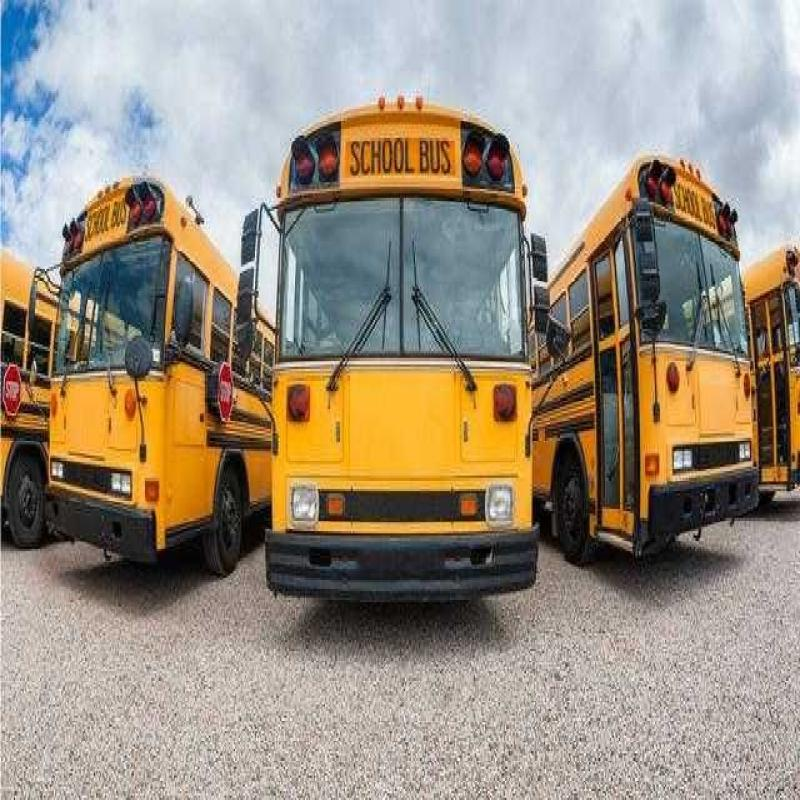bus: (276, 76, 548, 634), (597, 91, 766, 612), (77, 118, 219, 614)
